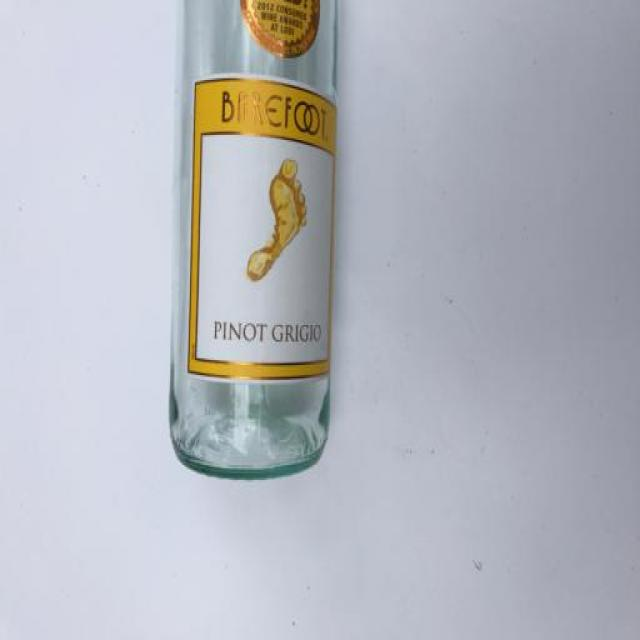glass: (111, 1, 418, 502)
